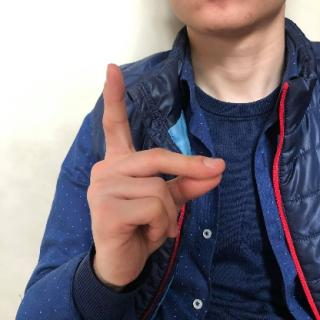TAA: (82, 56, 232, 288)
